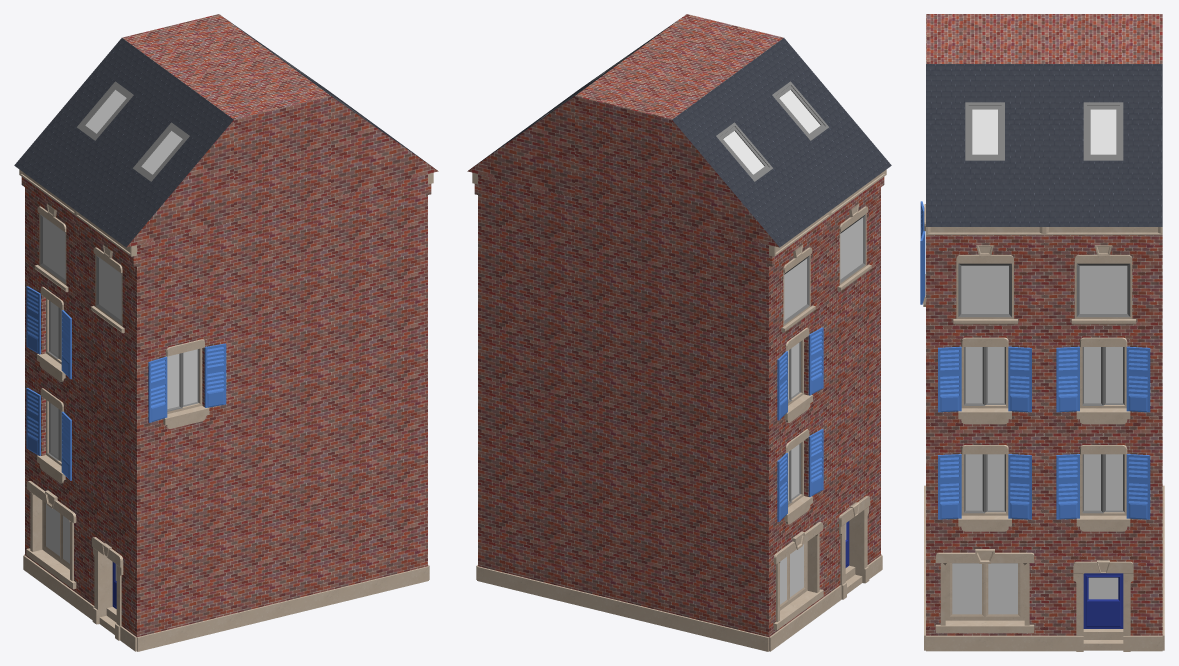
Rendered from Amiennoise2.fbx.
3 views of the same model, side by side, from view 1: azimuth 30°, elevation 25°; view 2: azimuth 150°, elevation 25°; view 3: azimuth 270°, elevation 25° (orthographic). The views are drawn at different scales.
Visible parts, largest first — view 1: Amiennoise2MErged.012; view 2: Amiennoise2MErged.012; view 3: Amiennoise2MErged.012.
Boxes of the visible parts, x1=… form: Amiennoise2MErged.012: x1=14, y1=14, x2=438, y2=651; Amiennoise2MErged.012: x1=467, y1=14, x2=891, y2=651; Amiennoise2MErged.012: x1=920, y1=14, x2=1164, y2=651.
Size of the model in its own units: 966 by 1500 by 619.
